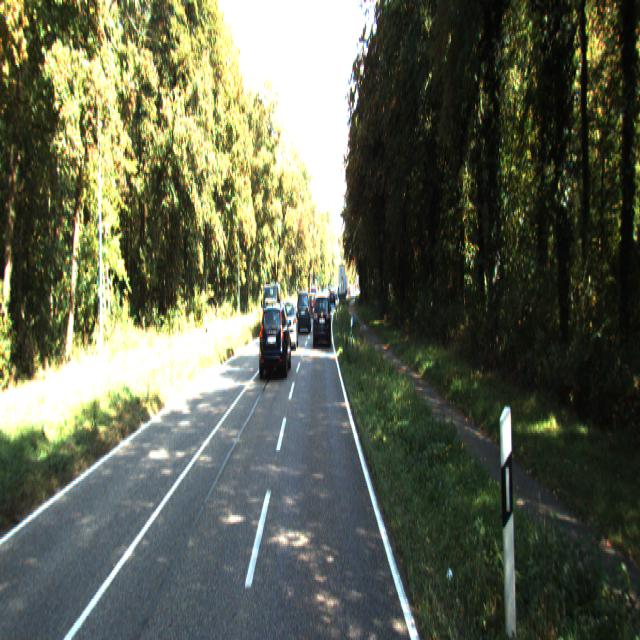Car: (259, 299, 291, 379), (313, 289, 331, 344), (280, 297, 298, 350), (296, 288, 311, 330)
